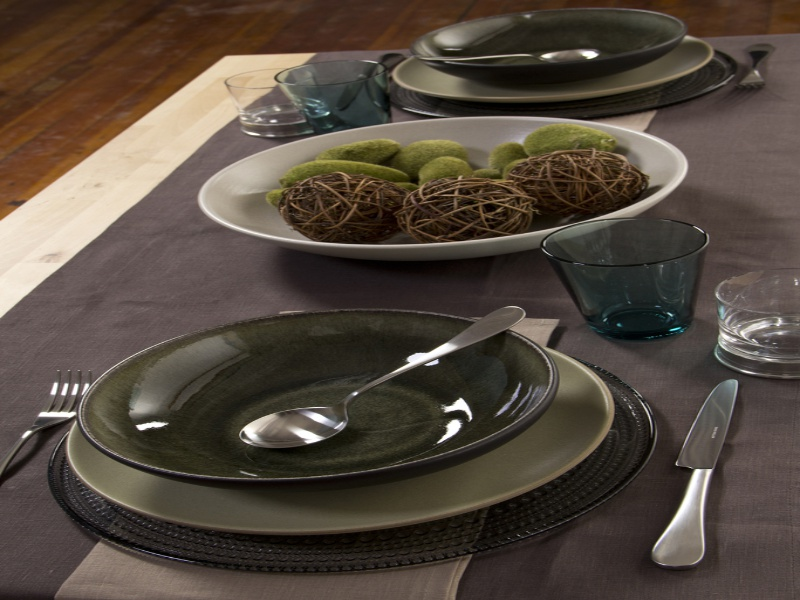knife: (648, 375, 740, 572)
